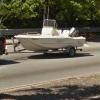Boat: (9, 13, 87, 60)
